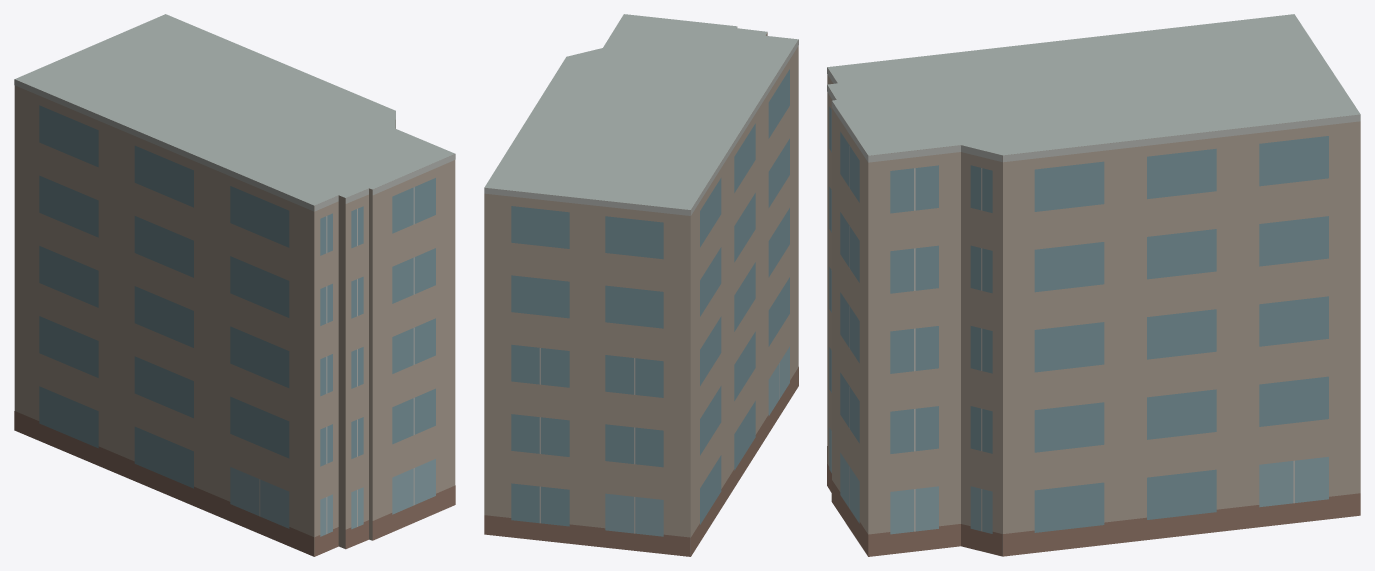
The model's file is survey-upis-32713746.glb.
3 views of the same model, side by side, from view 1: azimuth 30°, elevation 25°; view 2: azimuth 150°, elevation 25°; view 3: azimuth 270°, elevation 25° (orthographic). The views are drawn at different scales.
Parts seen in each view (by area): view 1: survey-upis-32713746.tmp; view 2: survey-upis-32713746.tmp; view 3: survey-upis-32713746.tmp.
Boxes of the visible parts, <box> form: survey-upis-32713746.tmp: <box>14,14,455,556</box>; survey-upis-32713746.tmp: <box>484,14,798,556</box>; survey-upis-32713746.tmp: <box>827,14,1360,556</box>.
Size of the model in its own units: 10.77 by 14.2 by 17.13.
